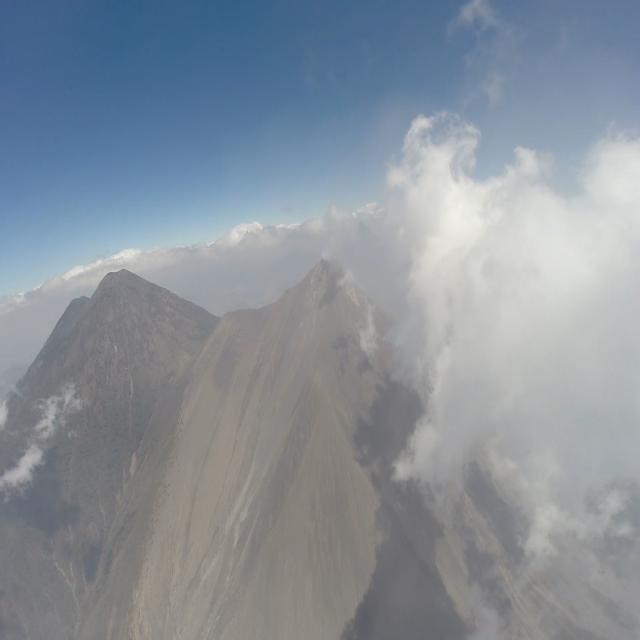Summit: (280, 252, 390, 318)
